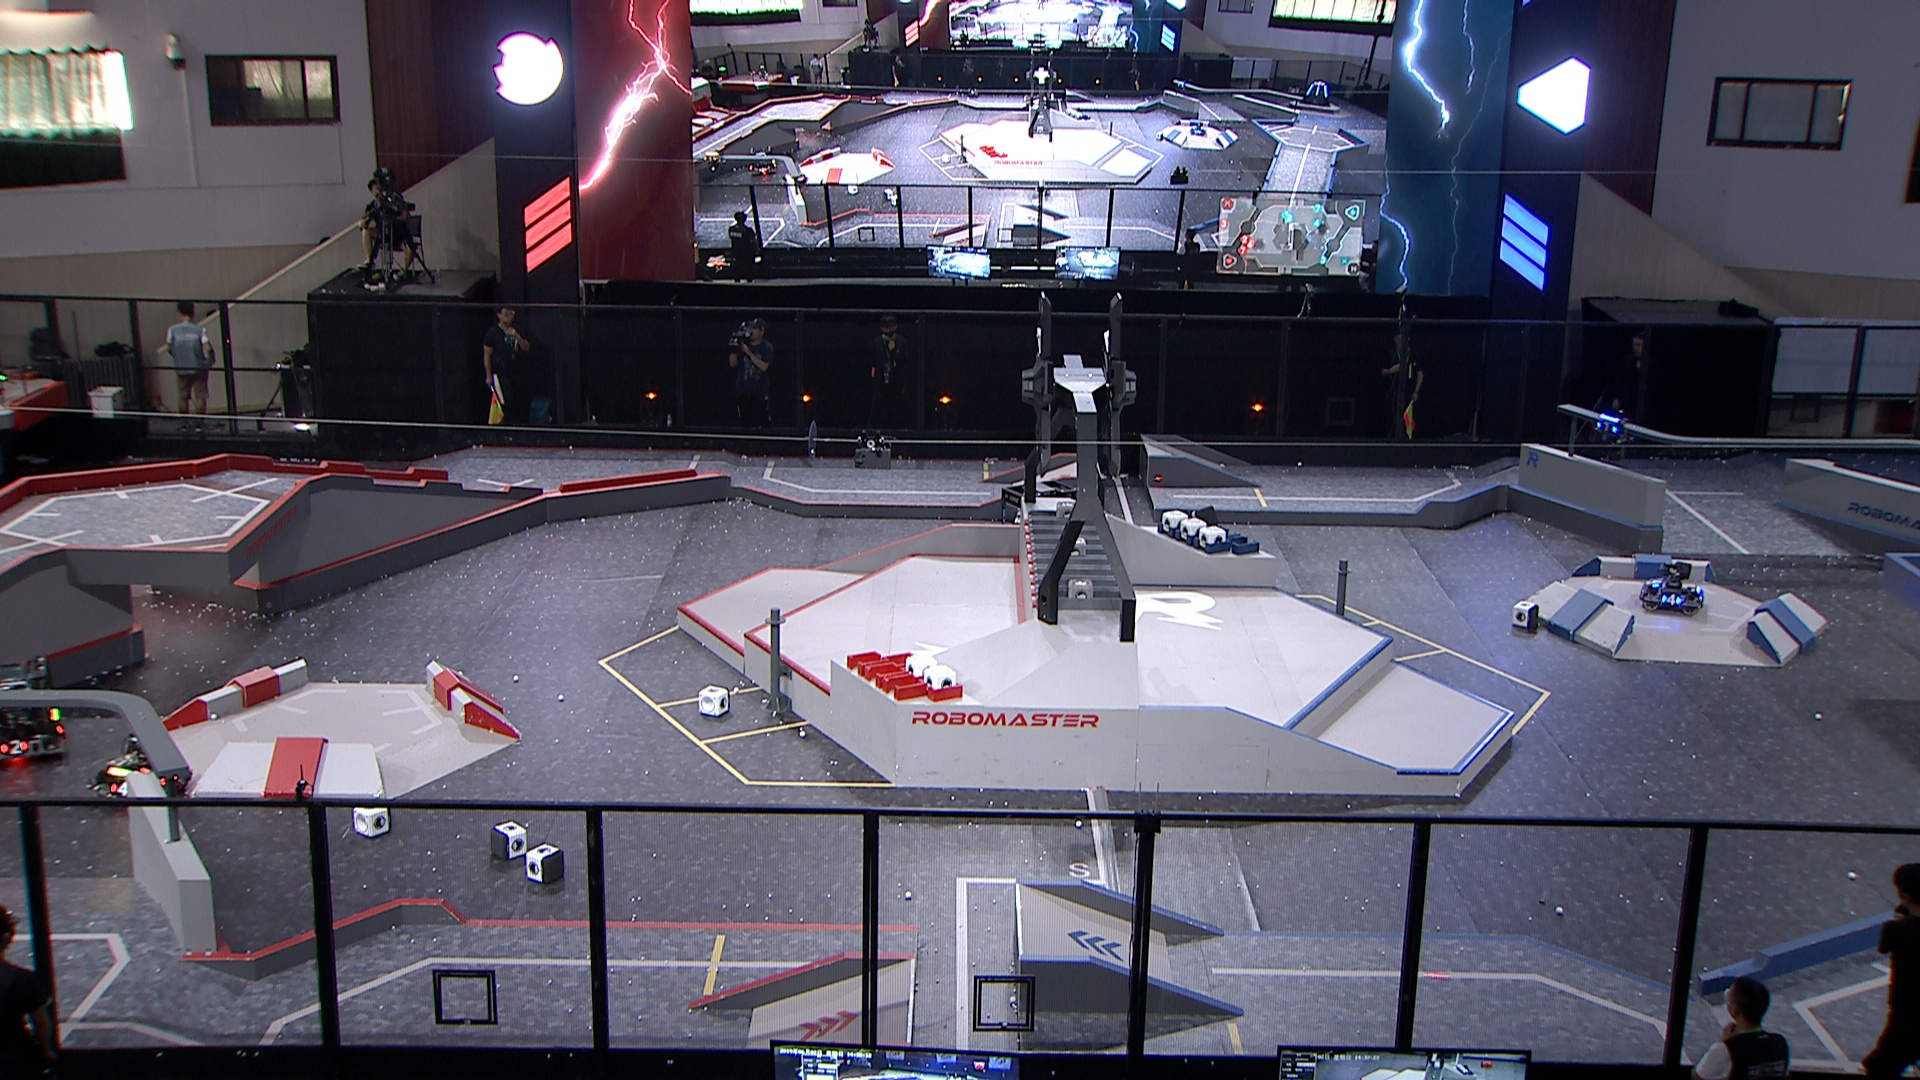armor: (1659, 591, 1683, 608), (1596, 419, 1618, 436), (109, 782, 131, 798), (1648, 576, 1667, 589)
car: (88, 732, 193, 808), (994, 477, 1084, 564), (1638, 562, 1706, 616)
ignore: (1302, 78, 1333, 105), (746, 152, 779, 177), (704, 150, 727, 171), (1191, 120, 1209, 135), (1178, 79, 1189, 92)
watcher: (1596, 414, 1633, 452)
